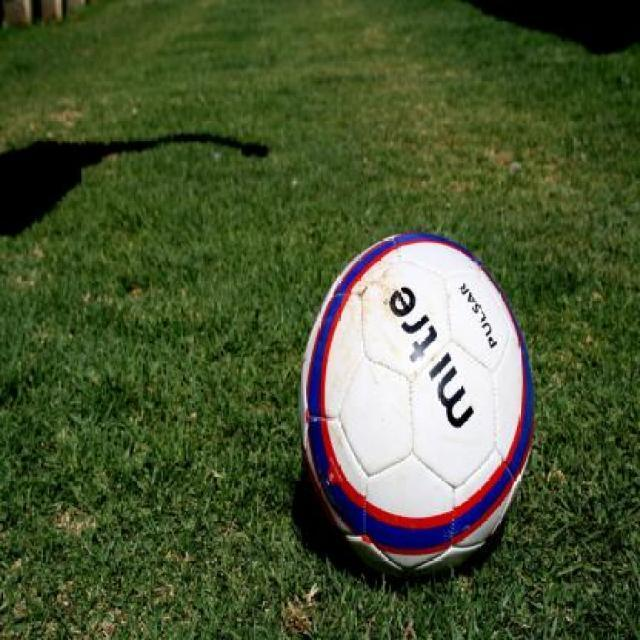-: (294, 224, 549, 579)
